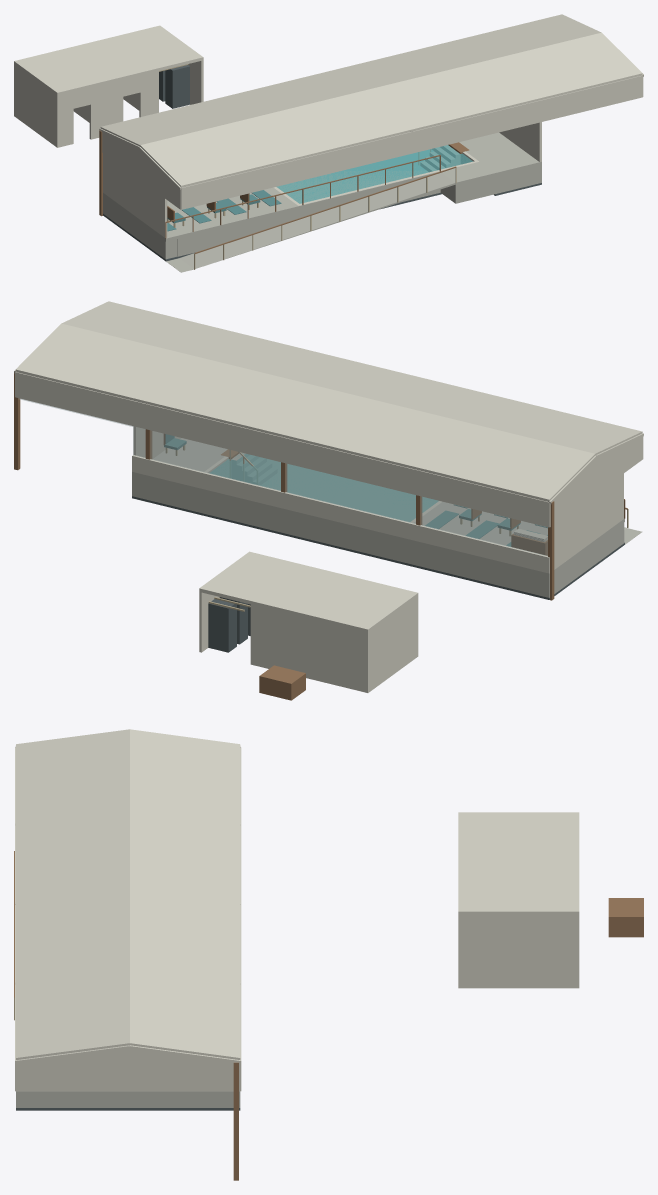
File: VIP_TIDAL_FITTED_r005.glb
3 renders of one model, top to bottom at view 1: azimuth 30°, elevation 25°; view 2: azimuth 150°, elevation 25°; view 3: azimuth 270°, elevation 25°, orthographic. The views are drawn at different scales.
Parts seen in each view (by area): view 1: F005__G2VIP_TIDAL_RoofPanel1, F005__G2VIP_TIDAL_RoofPanel0, TIDAL_F005_Weather_Aft, F005__G2VIP_TIDAL_ArrivalRamp, F005__G2VIP_TIDAL_Water_Illustrative, TIDAL_F005_TerraceAftMiddle, TIDAL_F005_TerraceWest, TIDAL_F005_TerraceEast, F005__G2VIP_TIDAL_InnerWall, TIDAL_F005_ChangingRoof0, TIDAL_F005_ChangingRoof1, TIDAL_F005_ChangingSide0 (+15 smaller); view 2: F005__G2VIP_TIDAL_RoofPanel0, F005__G2VIP_TIDAL_RoofPanel1, TIDAL_F005_Weather_Fore, TIDAL_F005_ForeClerestoryWet, TIDAL_F005_TerraceFore, TIDAL_F005_ForePlinth, F005__G2VIP_TIDAL_Water_Illustrative, F005__G2VIP_TIDAL_VesselFloor, TIDAL_F005_ChangingBack0, TIDAL_F005_ChangingBack1, TIDAL_F005_TerraceWest, TIDAL_F005_ChangingRoof0 (+12 smaller); view 3: F005__G2VIP_TIDAL_RoofPanel1, F005__G2VIP_TIDAL_RoofPanel0, TIDAL_F005_PlantEast, TIDAL_F005_PlantRoof, TIDAL_F005_ChangingRoof0, TIDAL_F005_ChangingRoof1, TIDAL_F005_Weather_Side1Aft, TIDAL_F005_Weather_Side1Fore, TIDAL_F005_TerraceEast, F005__G2VIP_TIDAL_ServiceCounter, TIDAL_F005_Weather_Fore.
Boxes of the visible parts, x1=… form: F005__G2VIP_TIDAL_RoofPanel1: x1=140, y1=32, x2=642, y2=187; F005__G2VIP_TIDAL_RoofPanel0: x1=100, y1=14, x2=601, y2=146; TIDAL_F005_Weather_Aft: x1=181, y1=75, x2=642, y2=209; F005__G2VIP_TIDAL_ArrivalRamp: x1=179, y1=172, x2=455, y2=268; F005__G2VIP_TIDAL_Water_Illustrative: x1=277, y1=145, x2=472, y2=203; TIDAL_F005_TerraceAftMiddle: x1=177, y1=171, x2=440, y2=256; TIDAL_F005_TerraceWest: x1=111, y1=187, x2=297, y2=259; TIDAL_F005_TerraceEast: x1=459, y1=132, x2=541, y2=193; F005__G2VIP_TIDAL_InnerWall: x1=103, y1=153, x2=167, y2=237; TIDAL_F005_ChangingRoof0: x1=14, y1=49, x2=106, y2=95; TIDAL_F005_ChangingRoof1: x1=64, y1=37, x2=156, y2=83; TIDAL_F005_ChangingSide0: x1=14, y1=65, x2=59, y2=147; F005__G2VIP_TIDAL_RoofPanel0: x1=15, y1=323, x2=595, y2=501; F005__G2VIP_TIDAL_RoofPanel1: x1=61, y1=301, x2=642, y2=455; TIDAL_F005_Weather_Fore: x1=15, y1=372, x2=549, y2=527; TIDAL_F005_ForeClerestoryWet: x1=133, y1=426, x2=547, y2=556; TIDAL_F005_TerraceFore: x1=132, y1=472, x2=561, y2=597; TIDAL_F005_ForePlinth: x1=132, y1=455, x2=549, y2=573; F005__G2VIP_TIDAL_Water_Illustrative: x1=210, y1=454, x2=437, y2=521; F005__G2VIP_TIDAL_VesselFloor: x1=261, y1=459, x2=437, y2=521; TIDAL_F005_ChangingBack0: x1=310, y1=619, x2=369, y2=692; TIDAL_F005_ChangingBack1: x1=253, y1=605, x2=310, y2=678; TIDAL_F005_TerraceWest: x1=414, y1=502, x2=624, y2=588; TIDAL_F005_ChangingRoof0: x1=310, y1=579, x2=418, y2=632; F005__G2VIP_TIDAL_RoofPanel1: x1=16, y1=729, x2=129, y2=1059; F005__G2VIP_TIDAL_RoofPanel0: x1=130, y1=729, x2=240, y2=1059; TIDAL_F005_PlantEast: x1=458, y1=916, x2=579, y2=988; TIDAL_F005_PlantRoof: x1=458, y1=880, x2=579, y2=915; TIDAL_F005_ChangingRoof0: x1=458, y1=812, x2=579, y2=845; TIDAL_F005_ChangingRoof1: x1=458, y1=846, x2=579, y2=879; TIDAL_F005_Weather_Side1Aft: x1=16, y1=1046, x2=129, y2=1091; TIDAL_F005_Weather_Side1Fore: x1=130, y1=1049, x2=240, y2=1091; TIDAL_F005_TerraceEast: x1=16, y1=1091, x2=209, y2=1107; F005__G2VIP_TIDAL_ServiceCounter: x1=608, y1=898, x2=643, y2=937; TIDAL_F005_Weather_Fore: x1=240, y1=747, x2=241, y2=1091.
Size of the model in its own units: 31.84 by 6.4 by 26.81.
